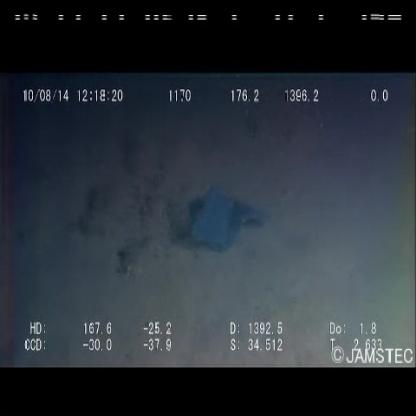Rác: (168, 176, 278, 262)
